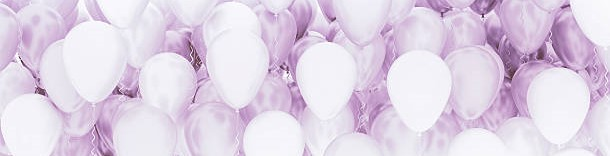Balloon: (63, 21, 130, 102), (388, 49, 451, 128), (207, 34, 268, 111), (528, 68, 591, 140), (297, 42, 358, 106), (1, 93, 60, 156), (139, 55, 200, 109), (500, 1, 553, 57), (114, 109, 176, 156), (243, 113, 305, 156), (335, 1, 392, 45)
